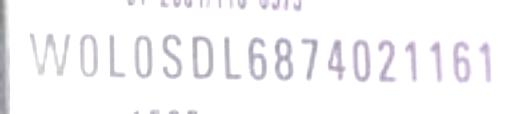letter: (26, 26, 72, 78), (346, 34, 376, 84), (104, 28, 130, 84), (75, 29, 101, 81), (160, 31, 186, 83), (189, 31, 215, 83), (245, 34, 271, 84), (130, 29, 154, 81), (221, 31, 245, 83), (373, 36, 399, 84), (296, 31, 320, 81), (272, 34, 296, 84), (325, 34, 349, 84), (450, 36, 474, 86), (474, 36, 496, 86), (402, 36, 424, 84), (427, 36, 445, 84)
